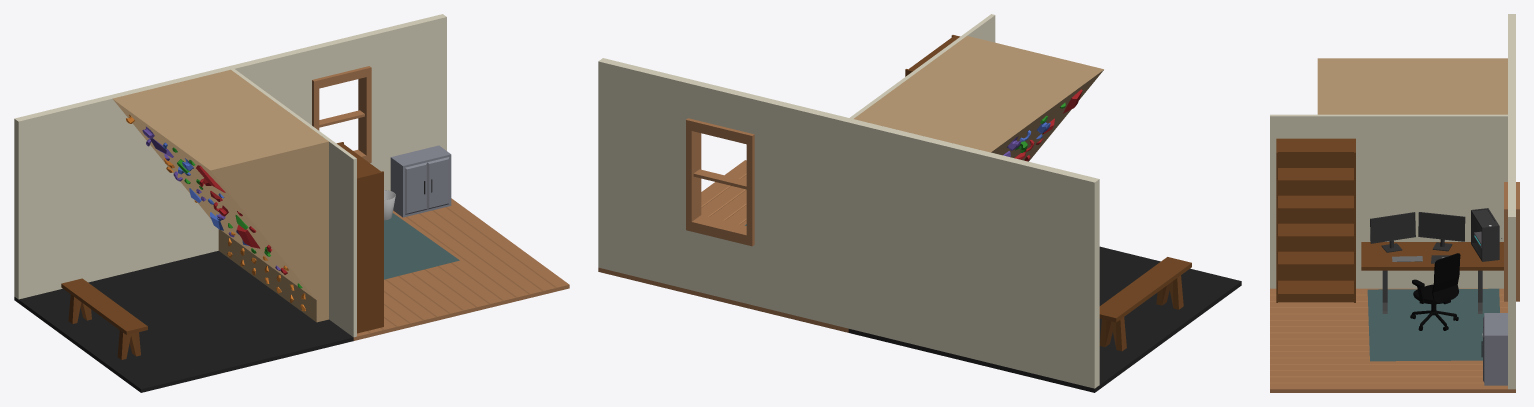
Rendered from portfolioRoom.glb.
The picture shows the model from 3 angles, left to right: view 1: azimuth 30°, elevation 25°; view 2: azimuth 150°, elevation 25°; view 3: azimuth 270°, elevation 25°; orthographic projection. The views are drawn at different scales.
Visible parts, largest first — view 1: ClimbingFloor, Structure, ClimbingWall, Bookshelf, FilingCabinet, Carpet, Bench, WindowFrame; view 2: ClimbingFloor, Structure, ClimbingWall, WindowFrame, Bench; view 3: Structure, Bookshelf, ClimbingWall, Carpet, TableTop, Chair, FilingCabinet, Computer, Screen2, Screen1, WindowFrame, ClimbingFloor (+4 smaller).
Boxes of the visible parts, x1,y1,x2,y2 form: ClimbingFloor: [14, 66, 353, 392]; Structure: [227, 14, 569, 340]; ClimbingWall: [112, 69, 328, 322]; Bookshelf: [336, 142, 383, 333]; FilingCabinet: [390, 145, 451, 217]; Carpet: [384, 213, 459, 279]; Bench: [61, 278, 147, 359]; WindowFrame: [312, 66, 371, 162]; ClimbingFloor: [848, 119, 1241, 392]; Structure: [598, 14, 995, 332]; ClimbingWall: [854, 36, 1103, 161]; WindowFrame: [686, 118, 754, 246]; Bench: [1099, 257, 1191, 351]; Structure: [1270, 114, 1515, 392]; Bookshelf: [1276, 138, 1355, 302]; ClimbingWall: [1317, 58, 1507, 114]; Carpet: [1367, 288, 1499, 361]; TableTop: [1361, 242, 1503, 270]; Chair: [1410, 253, 1460, 330]; FilingCabinet: [1481, 313, 1507, 385]; Computer: [1471, 208, 1501, 261]; Screen2: [1419, 213, 1464, 240]; Screen1: [1371, 213, 1415, 242]; WindowFrame: [1504, 182, 1519, 301]; ClimbingFloor: [1508, 14, 1515, 114].
Size of the model in its own units: 6.15 by 2.49 by 3.2.
